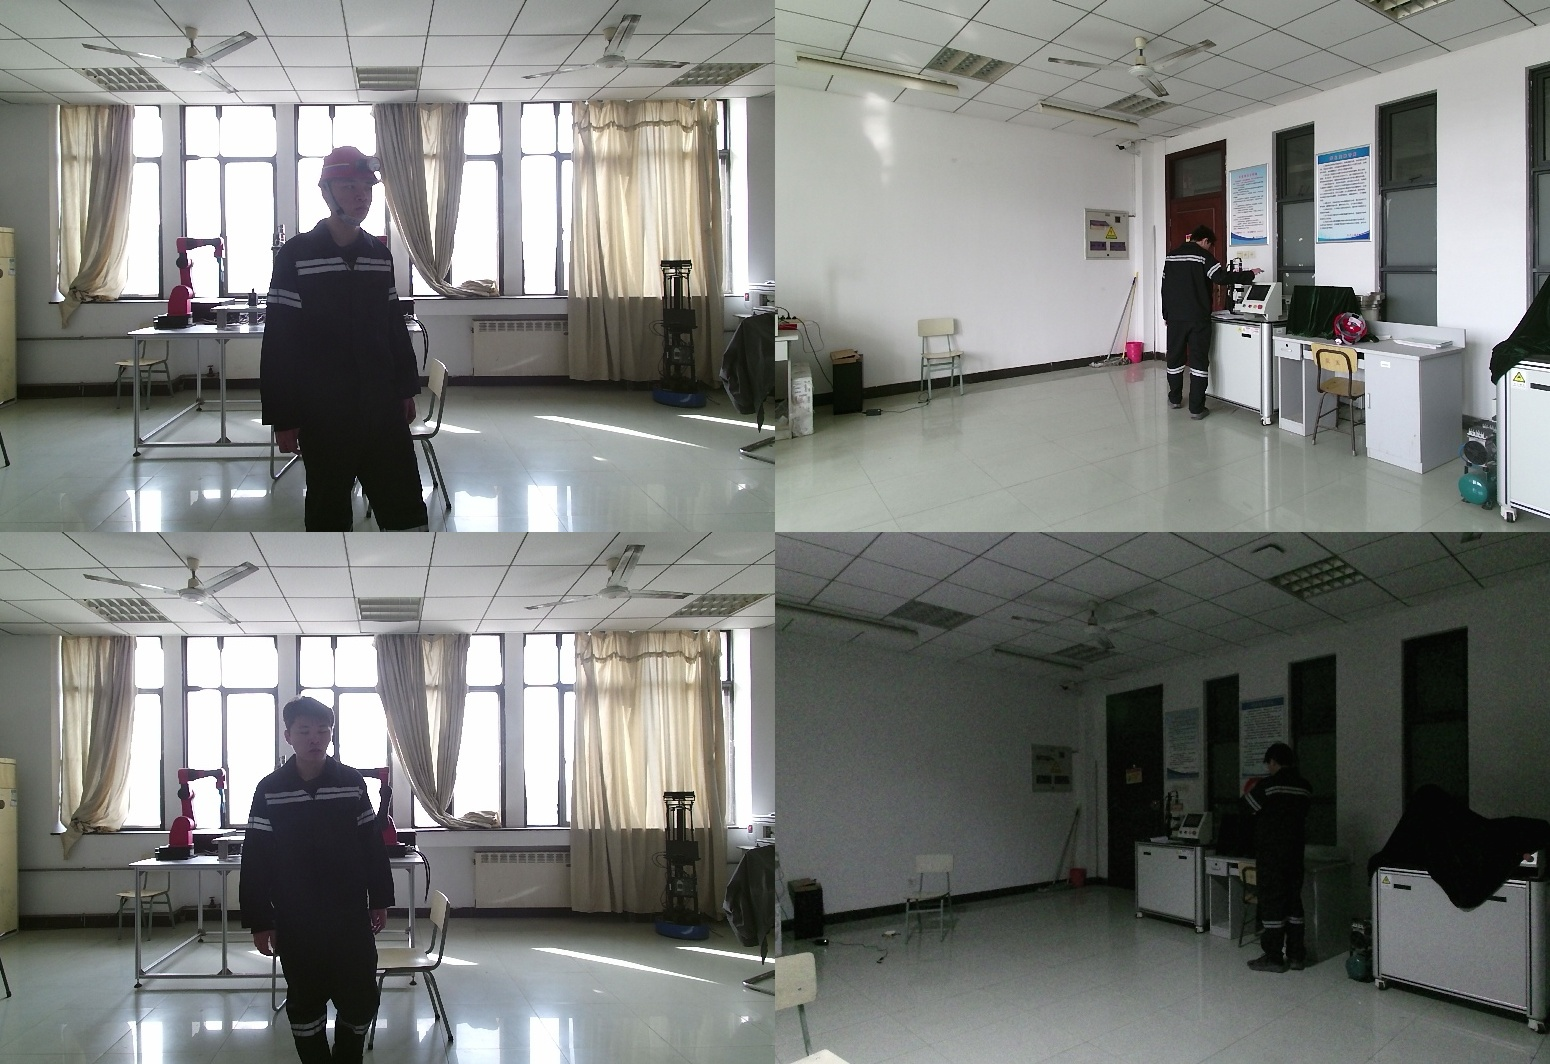person: (269, 148, 438, 532), (244, 700, 401, 1064), (1161, 231, 1275, 420), (1242, 744, 1335, 974)
